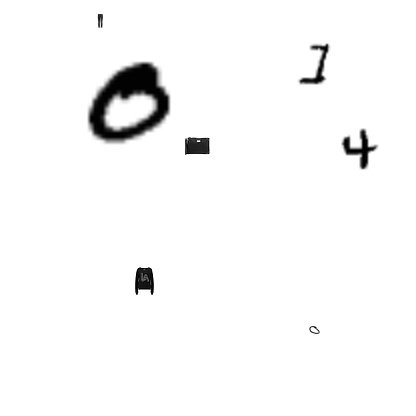0: (73, 43, 185, 155), (307, 323, 321, 337)
1: (288, 38, 344, 94)
4: (330, 121, 386, 177)
Bag: (182, 132, 210, 160)
Pullover: (130, 267, 158, 295)
Trouser: (93, 14, 107, 28)
